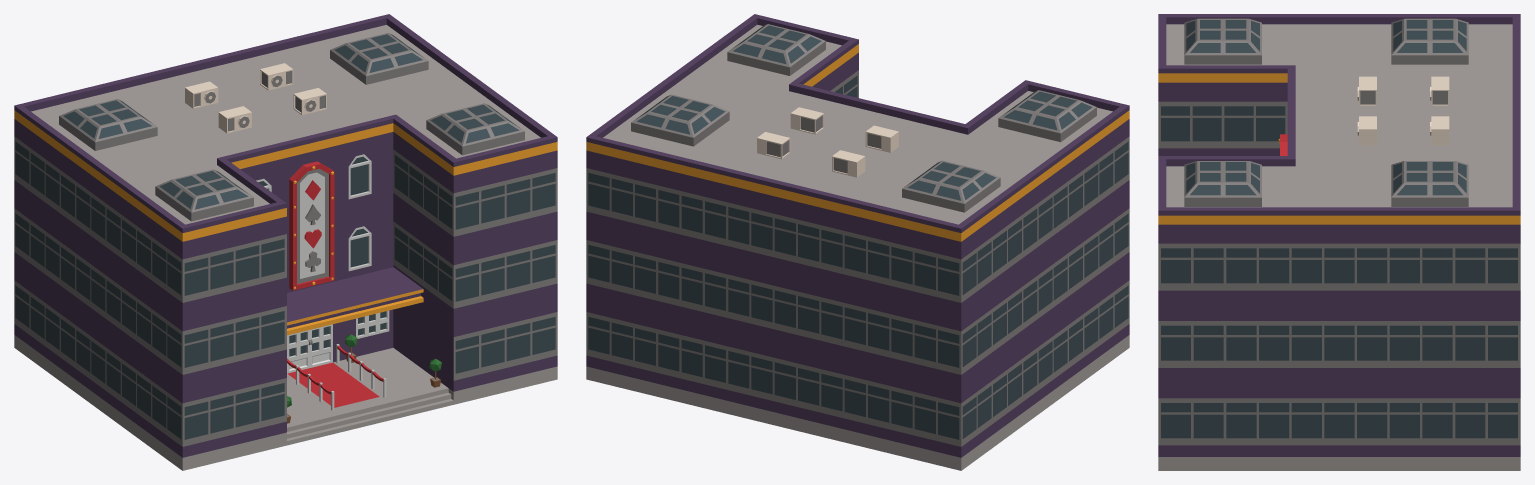
Rendered from buildings_building-casino.fbx.
3 views of the same model, side by side, from view 1: azimuth 30°, elevation 25°; view 2: azimuth 150°, elevation 25°; view 3: azimuth 270°, elevation 25° (orthographic). The views are drawn at different scales.
Parts seen in each view (by area): view 1: buildings_building_casino; view 2: buildings_building_casino; view 3: buildings_building_casino.
Part boxes in pixels (bbox=[...]): buildings_building_casino: bbox=[14, 14, 557, 470]; buildings_building_casino: bbox=[586, 14, 1129, 470]; buildings_building_casino: bbox=[1158, 14, 1520, 470].
Bounding box in the file's own units: 200 × 129 × 156.
